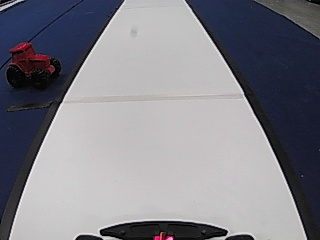tractor: (4, 40, 62, 89)
